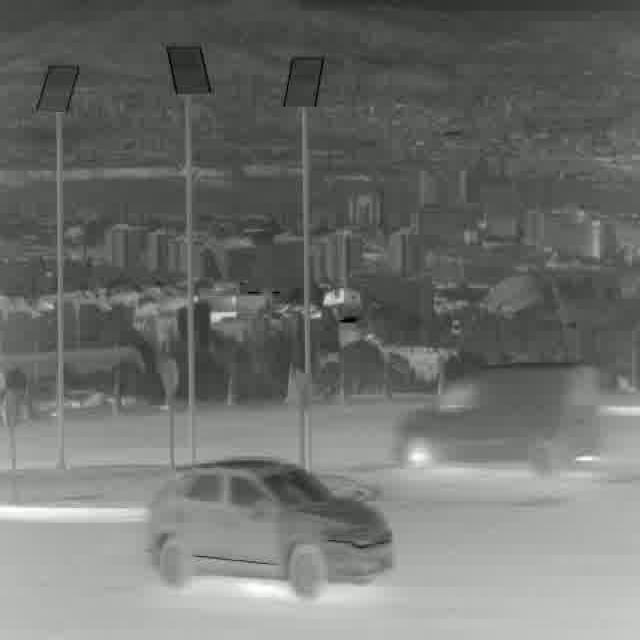Car: (146, 454, 396, 605), (394, 363, 603, 485)
